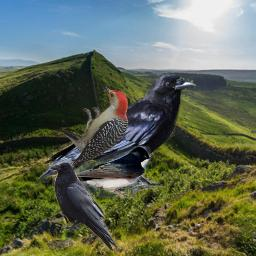Crow: (37, 70, 199, 195), (49, 161, 119, 252)
Swallow: (58, 146, 151, 198)
Woodpecker: (62, 83, 131, 166)
